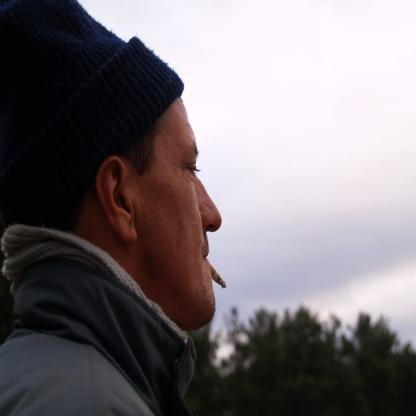smoking: (201, 258, 227, 290)
